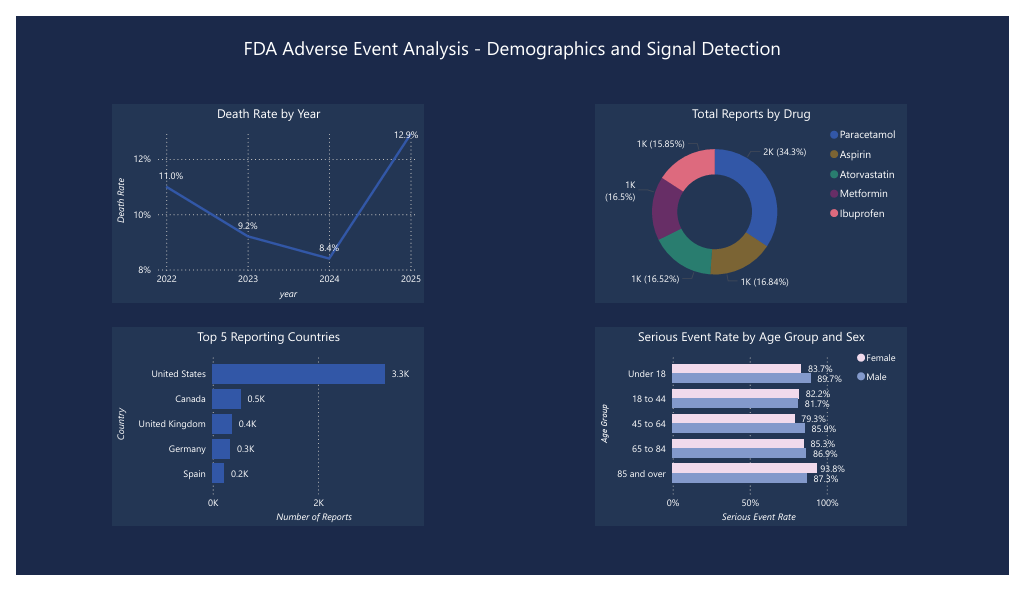

The dashboard page shown, as its layout file describes it:
{"tool":"powerbi","page":{"name":"Demographics and Signal Detection","canvas":[1280,720],"ordinal":2},"visuals":[{"type":"donutChart","title":"Total Reports by Drug","fields":{"Y":["fda_adverse_events.Total Reports"],"Category":["fda_adverse_events.drug_name"]},"box":[746.7,113.3,401.1,255.6],"z":1000},{"type":"clusteredBarChart","title":"Top 5 Reporting Countries","fields":{"Y":["CountNonNull(fda_adverse_events.reporter_country)"],"Category":["fda_adverse_events.country_name"]},"box":[124.4,401.1,401.1,255.6],"z":3000},{"type":"textbox","box":[21.1,17.8,1236.7,72.2],"z":4000},{"type":"lineChart","title":"Death Rate by Year","fields":{"Category":["fda_adverse_events.year"],"Y":["fda_adverse_events.Death Rate"]},"box":[124.4,113.3,401.1,255.6],"z":5000},{"type":"clusteredBarChart","title":"Serious Event Rate by Age Group and Sex","fields":{"Category":["fda_adverse_events.age_group"],"Y":["fda_adverse_events.Serious Event Rate"],"Series":["fda_adverse_events.sex_label"]},"box":[746.7,401.1,401.1,255.6],"z":5001}]}

Visuals, with their boxes in screenshot pixels (x1, y1, x2, y2), scaled from the page's 1280x720 canvas onto the 1026x590 screenshot:
"Total Reports by Drug" donutChart: locate(599, 93, 920, 302)
"Top 5 Reporting Countries" clusteredBarChart: locate(100, 329, 421, 538)
textbox: locate(17, 15, 1008, 74)
"Death Rate by Year" lineChart: locate(100, 93, 421, 302)
"Serious Event Rate by Age Group and Sex" clusteredBarChart: locate(599, 329, 920, 538)
